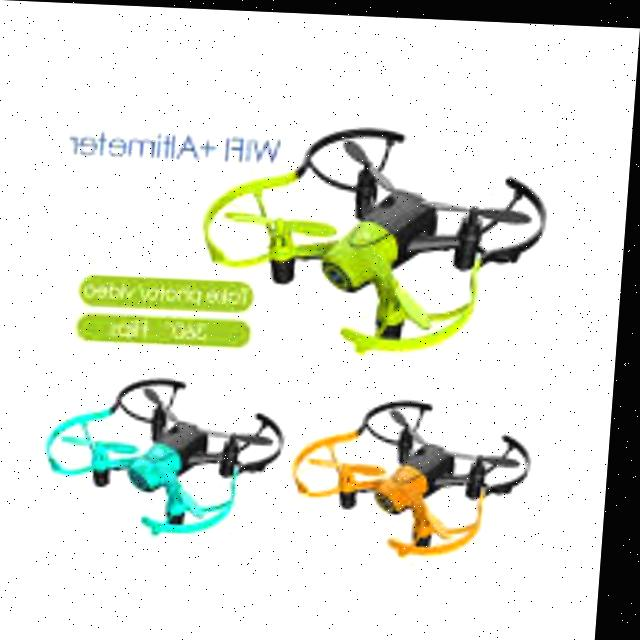drone: (191, 107, 574, 347), (293, 369, 554, 568), (38, 376, 292, 541)
